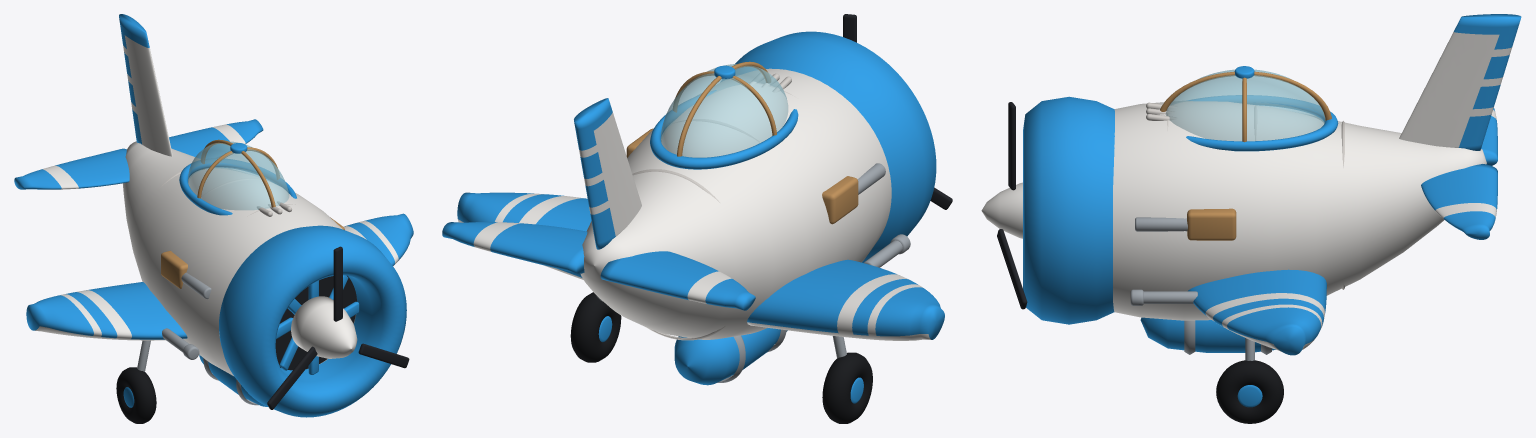
3 views of the same model, side by side, from view 1: azimuth 30°, elevation 25°; view 2: azimuth 150°, elevation 25°; view 3: azimuth 270°, elevation 25° (orthographic). The views are drawn at different scales.
Parts seen in each view (by area): view 1: cowl, body, wing, canopy, fin, stab, spinner, stab.001, wing.001, tyre, canopy-frame, cowl-floor (+8 smaller); view 2: body, cowl, wing, canopy, fin, stab, stab.001, wing.001, belly-tank, tyre, canopy-frame, tyre.001 (+5 smaller); view 3: body, cowl, fin, wing.001, canopy, stab.001, tyre.001, canopy-frame, belly-tank, side-box.001, spinner, strap-long (+5 smaller).
Part boxes in pixels (box(x1,y1,x2,y2)): cowl: box(219, 225, 406, 417); body: box(122, 141, 356, 375); wing: box(26, 282, 187, 340); canopy: box(188, 141, 289, 210); fin: box(119, 14, 172, 156); stab: box(14, 148, 129, 189); spinner: box(291, 296, 357, 358); stab.001: box(169, 119, 263, 158); wing.001: box(343, 213, 413, 265); tyre: box(116, 367, 156, 423); canopy-frame: box(179, 158, 296, 215); cowl-floor: box(275, 275, 356, 370); body: box(580, 68, 891, 339); cowl: box(721, 31, 936, 262); wing: box(747, 259, 944, 340); canopy: box(660, 64, 788, 157); fin: box(574, 98, 641, 249); stab: box(600, 251, 755, 310); stab.001: box(442, 222, 587, 273); wing.001: box(457, 192, 591, 279); belly-tank: box(674, 328, 787, 385); tyre: box(822, 352, 872, 423); canopy-frame: box(650, 90, 798, 169); tyre.001: box(570, 292, 621, 362); body: box(1113, 101, 1486, 320); cowl: box(1023, 96, 1114, 324); fin: box(1399, 14, 1521, 150); wing.001: box(1188, 269, 1326, 355); canopy: box(1165, 69, 1325, 141); stab.001: box(1421, 164, 1497, 239); tyre.001: box(1216, 360, 1283, 423); canopy-frame: box(1186, 95, 1338, 151); belly-tank: box(1140, 317, 1275, 352); side-box.001: box(1187, 208, 1236, 240); spinner: box(981, 182, 1022, 238); strap-long: box(1160, 71, 1331, 120).
Bounding box in the file's own units: 0.46 × 0.351 × 0.4925.
